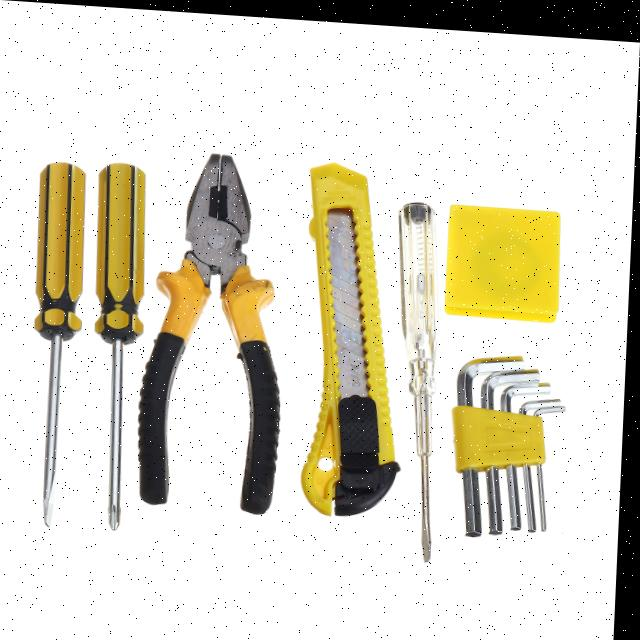Screwdriver: (37, 162, 87, 525), (99, 161, 147, 527), (401, 197, 441, 555)
